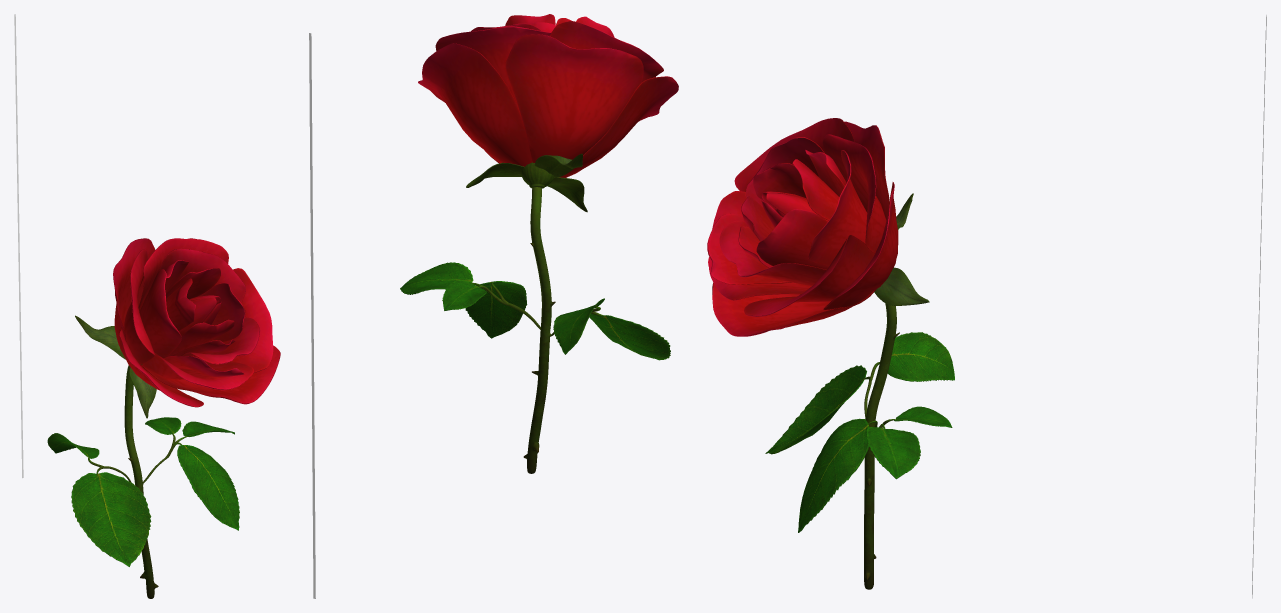
The picture shows the model from 3 angles, left to right: view 1: azimuth 30°, elevation 25°; view 2: azimuth 150°, elevation 25°; view 3: azimuth 270°, elevation 25°; orthographic projection. The views are drawn at different scales.
Visible parts, largest first — view 1: root, Плоскость; view 2: root, Плоскость; view 3: root.
Part boxes in pixels (bbox=[...]): root: bbox=[47, 238, 280, 598]; Плоскость: bbox=[14, 14, 23, 478]; root: bbox=[400, 14, 678, 473]; Плоскость: bbox=[309, 33, 315, 598]; root: bbox=[707, 118, 954, 589].
Size of the model in its own units: 13.81 by 32.04 by 27.67.
Materials: 2 (1 with a texture image).
